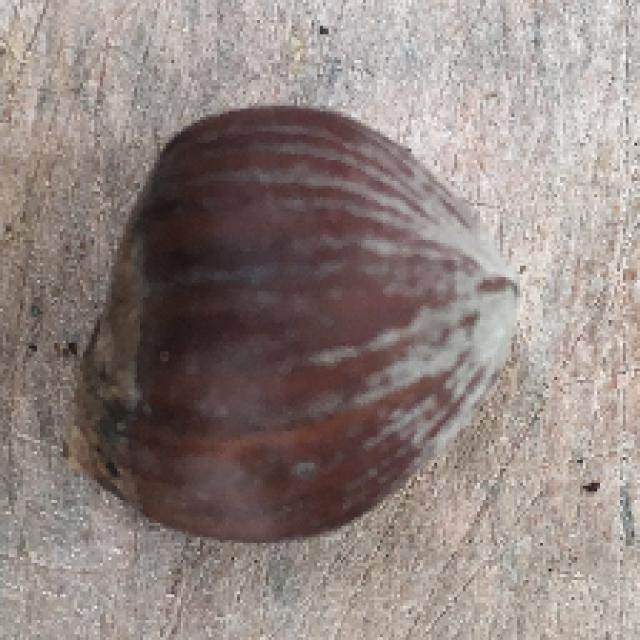DamagedHazelnut: (61, 102, 526, 544)
